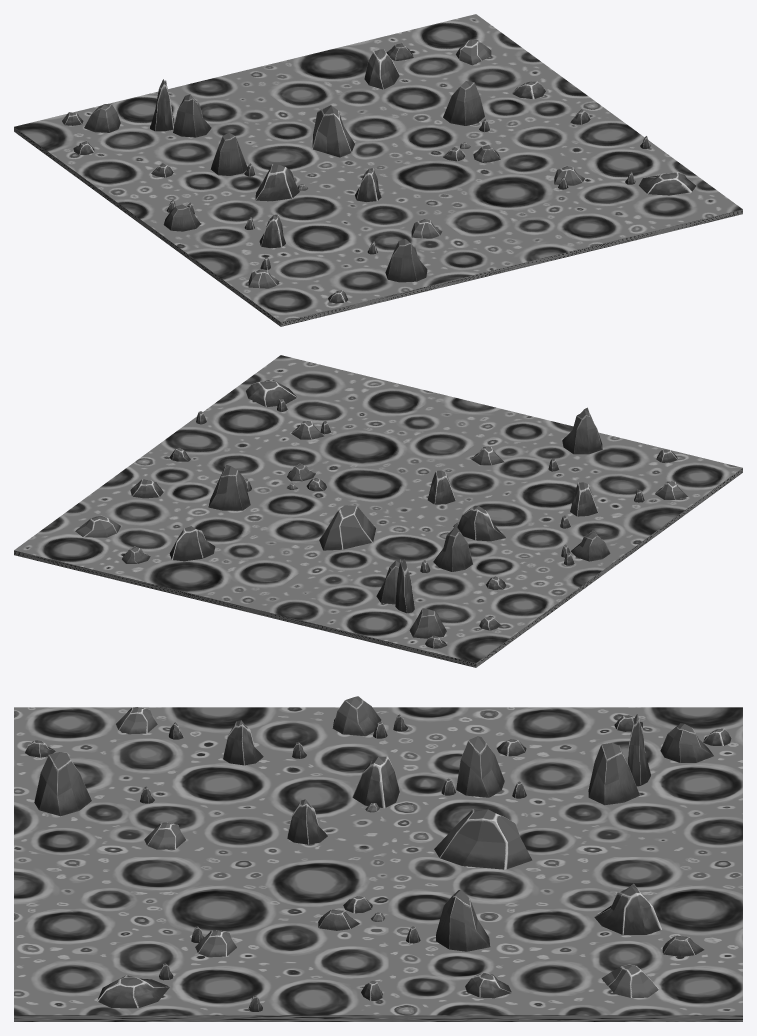
File: unity 2022 space rock floor.fbx
3 views of the same model, one above another, from view 1: azimuth 30°, elevation 25°; view 2: azimuth 150°, elevation 25°; view 3: azimuth 270°, elevation 25° (orthographic). The views are drawn at different scales.
Parts seen in each view (by area): view 1: floor, rock; view 2: floor, rock; view 3: floor, rock.
Boxes of the visible parts, x1,y1,x2,y2 form: floor: (14,14,742,326); rock: (62,39,695,303); floor: (14,355,742,667); rock: (75,379,687,648); floor: (14,707,742,1021); rock: (24,696,731,1011).
Size of the model in its own units: 500 by 55.89 by 500.
6 materials, 6 textured.
